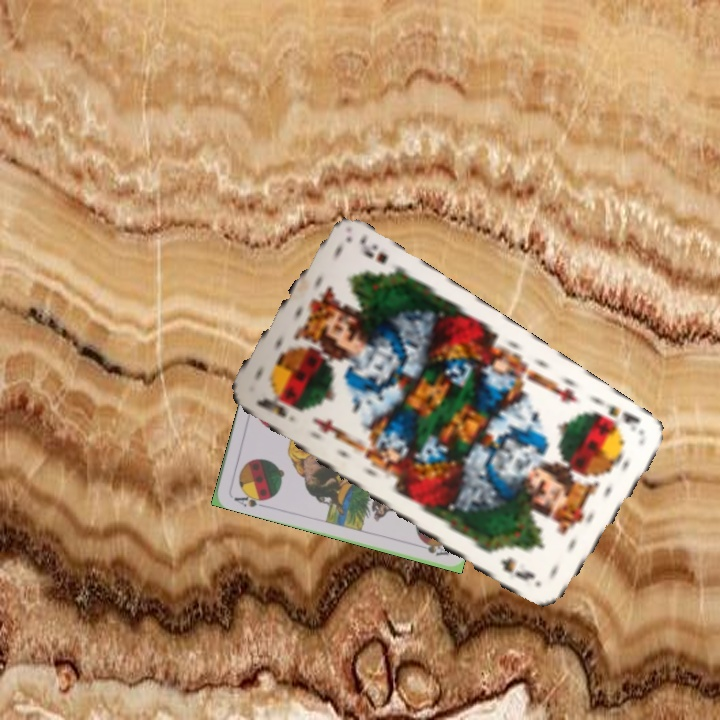SA: (230, 488, 269, 510)
SK: (589, 395, 644, 431), (251, 394, 289, 421)
